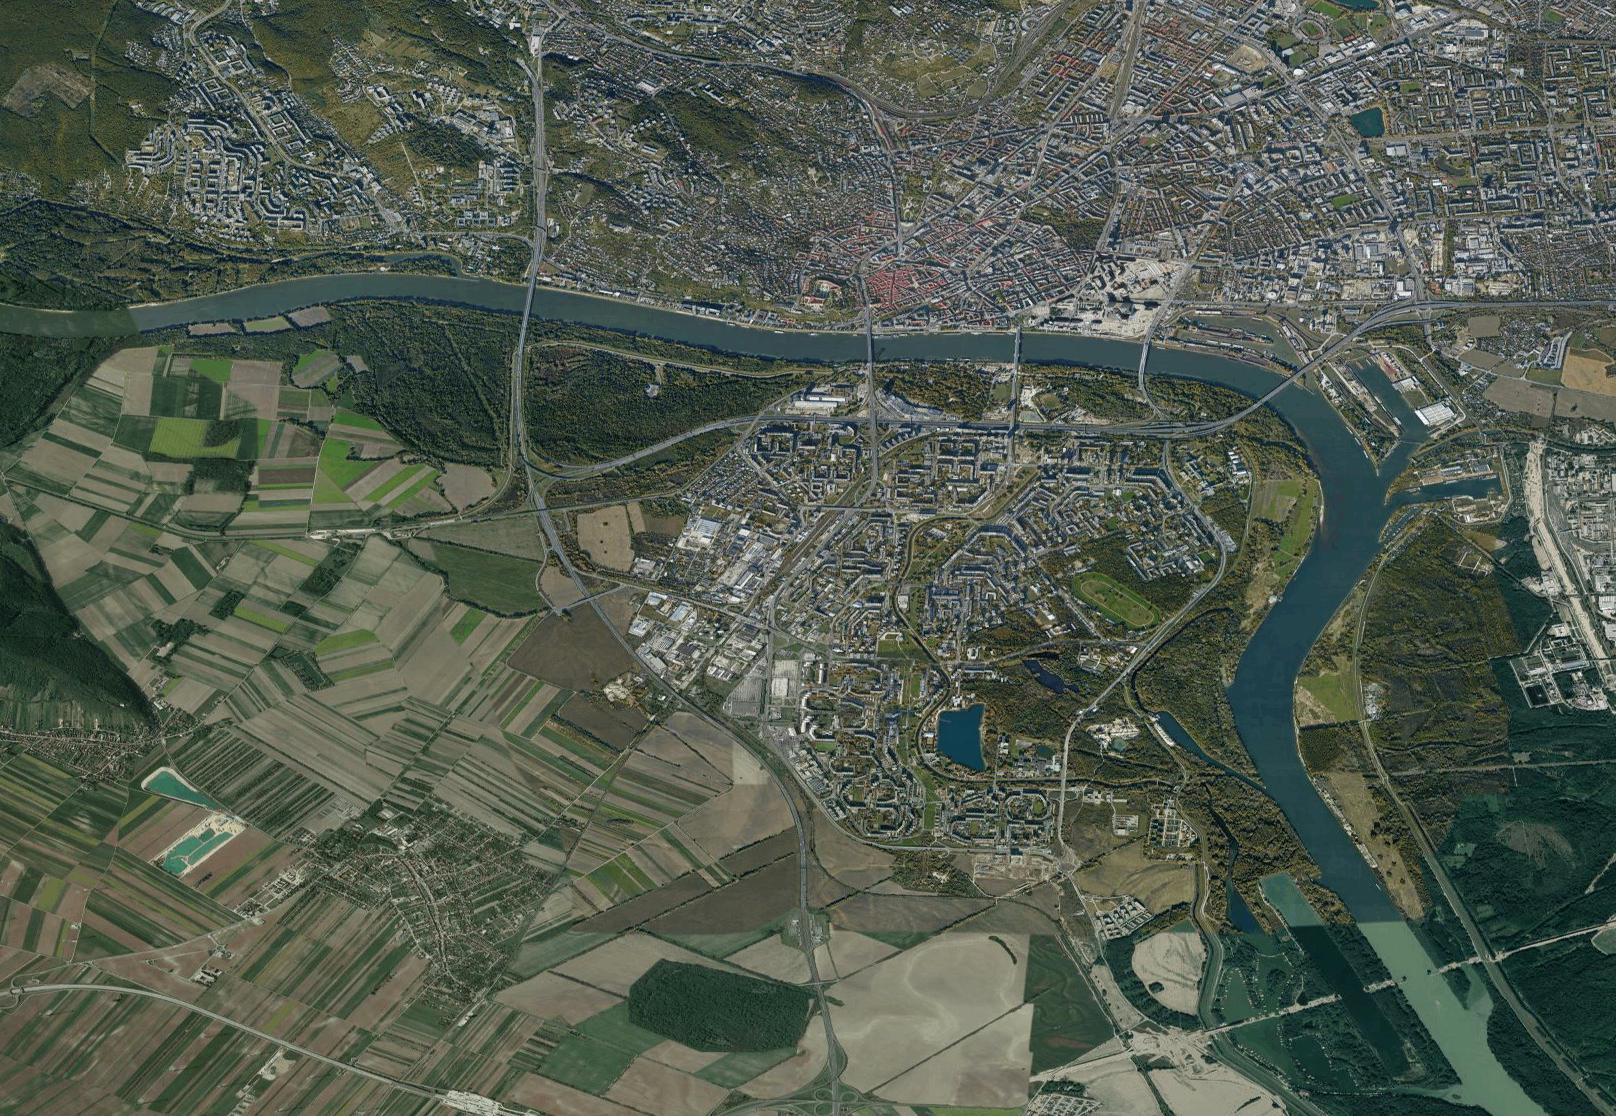bridge: (1257, 374, 1296, 406), (519, 281, 535, 316), (1138, 340, 1152, 381), (862, 331, 878, 365), (1011, 328, 1020, 365)
motorway: (697, 711, 794, 800), (567, 424, 707, 478), (1378, 297, 1611, 328), (610, 629, 696, 711), (807, 959, 846, 1116), (1296, 314, 1381, 374), (553, 543, 605, 627), (786, 797, 812, 956), (517, 442, 557, 540), (704, 414, 867, 435), (1175, 401, 1260, 440), (862, 419, 1013, 435), (511, 317, 530, 437), (532, 72, 546, 211), (1013, 420, 1194, 431), (526, 209, 549, 279)
train_station: (779, 514, 837, 571)
